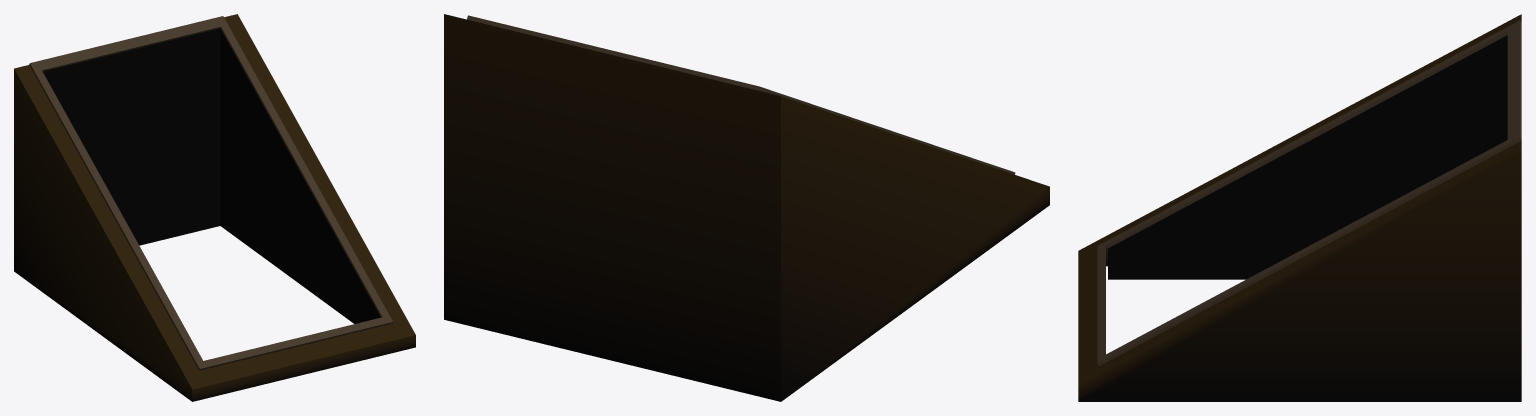
File: trapdoor.obj
The picture shows the model from 3 angles, left to right: view 1: azimuth 30°, elevation 25°; view 2: azimuth 150°, elevation 25°; view 3: azimuth 270°, elevation 25°; orthographic projection. The views are drawn at different scales.
Visible parts, largest first — view 1: Plane; view 2: Plane; view 3: Plane.
Part boxes in pixels (x1,y1,x2,y2): Plane: (14,14,415,401); Plane: (444,14,1049,401); Plane: (1078,14,1521,401).
Bounding box in the file's own units: 1.83 × 1.61 × 2.53.
